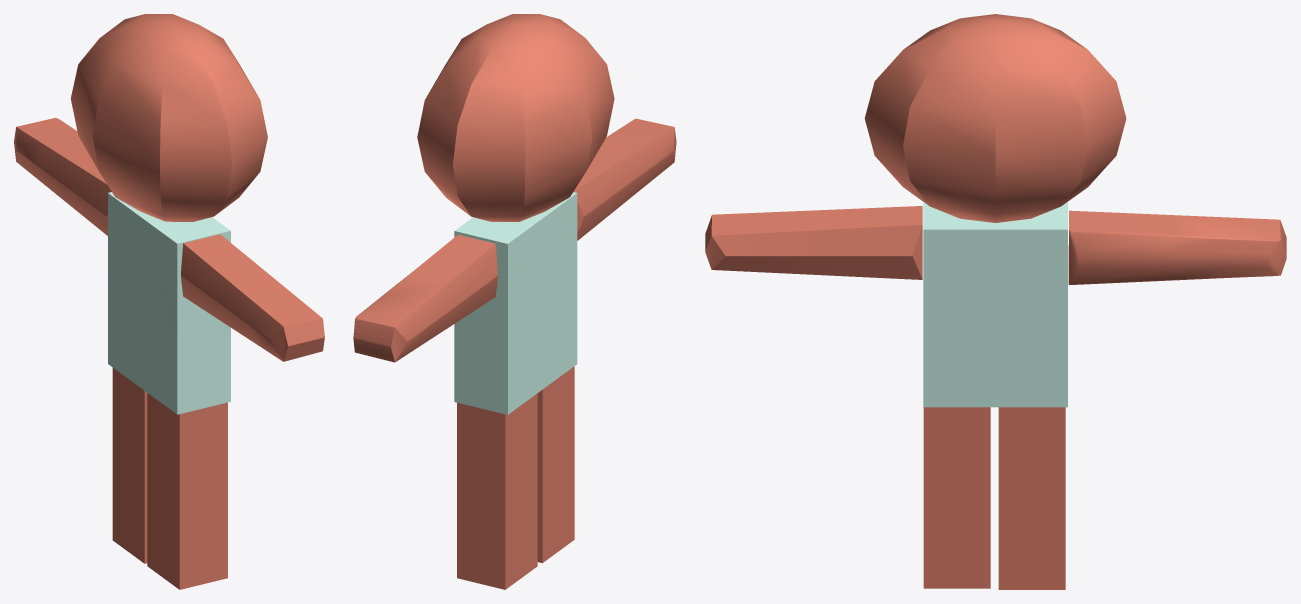
The model's file is Timmy.fbx.
The picture shows the model from 3 angles, left to right: view 1: azimuth 30°, elevation 25°; view 2: azimuth 150°, elevation 25°; view 3: azimuth 270°, elevation 25°; orthographic projection. The views are drawn at different scales.
Visible parts, largest first — view 1: Cube.001; view 2: Cube.001; view 3: Cube.001.
Part boxes in pixels (left/top/right/bottom): Cube.001: left=14, top=14, right=324, bottom=589; Cube.001: left=353, top=14, right=676, bottom=589; Cube.001: left=705, top=14, right=1286, bottom=589.
Bounding box in the file's own units: 178 × 593 × 563.
